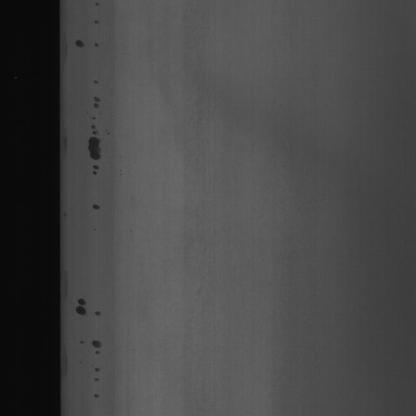oil_spot: (86, 0, 105, 217), (69, 296, 104, 407), (73, 25, 87, 56)
